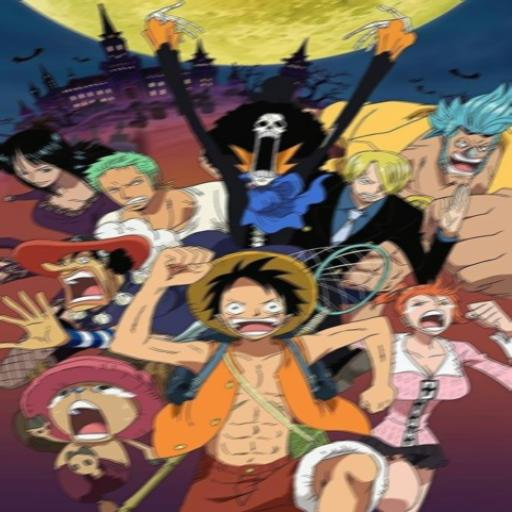Luffy: (170, 240, 328, 346)
Nami: (380, 270, 477, 348)
NicoRobin: (0, 120, 80, 191)
Usopp: (16, 224, 157, 312)
Zoro: (82, 150, 169, 217)
sanji: (332, 147, 420, 210)
